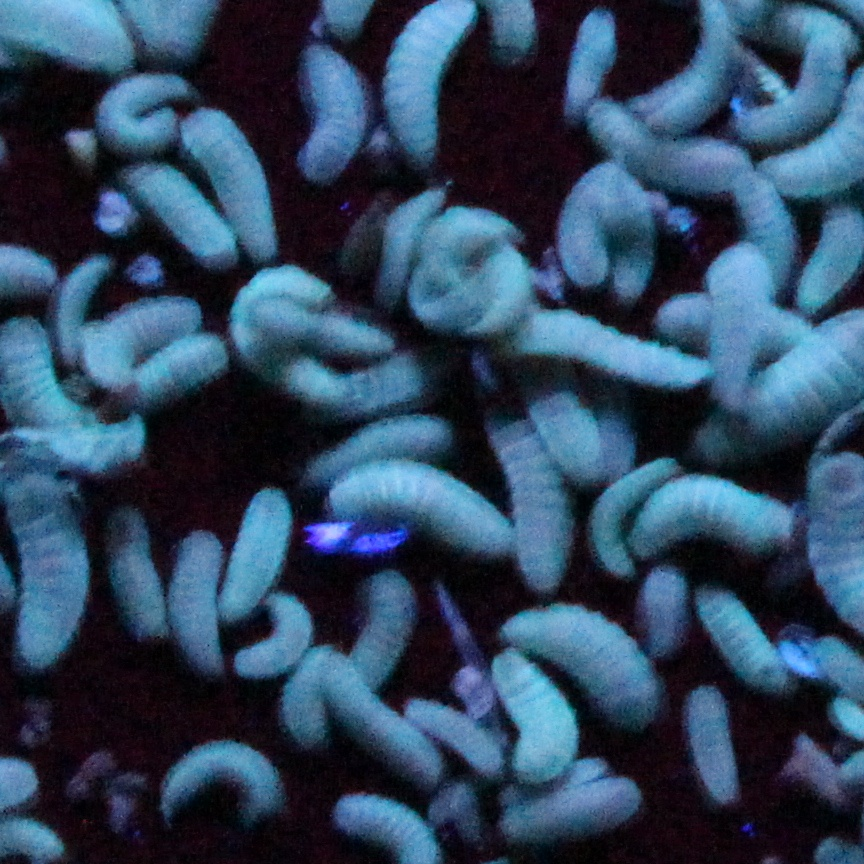larve: (494, 597, 669, 722), (305, 644, 449, 793), (505, 302, 711, 399), (478, 386, 576, 580), (323, 464, 516, 557), (583, 99, 754, 197), (543, 162, 662, 299), (625, 473, 796, 568), (227, 255, 340, 397), (405, 202, 522, 339), (149, 733, 309, 833), (478, 646, 587, 777), (114, 157, 238, 270), (182, 111, 280, 253), (687, 573, 802, 691), (740, 33, 847, 153), (309, 342, 471, 411), (676, 680, 760, 810), (163, 528, 234, 679), (502, 777, 653, 848), (216, 484, 291, 617), (589, 455, 673, 573), (711, 240, 769, 402), (307, 413, 463, 473), (87, 293, 194, 380), (338, 570, 414, 686), (102, 506, 167, 637), (367, 190, 440, 304), (98, 68, 194, 148), (262, 300, 400, 355), (403, 695, 498, 770), (302, 42, 354, 179), (796, 202, 864, 304), (53, 257, 114, 362), (125, 335, 222, 399), (736, 173, 791, 282), (563, 4, 618, 111), (245, 593, 311, 675), (636, 557, 689, 653)
